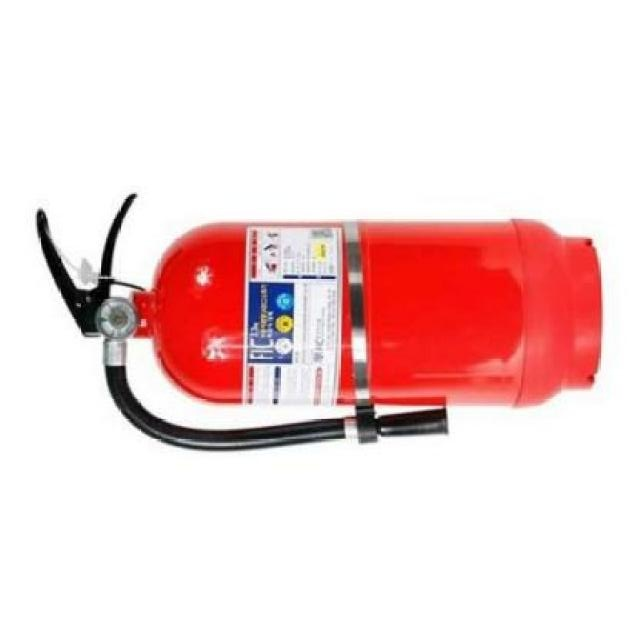fire extinguisher: (35, 193, 601, 453)
